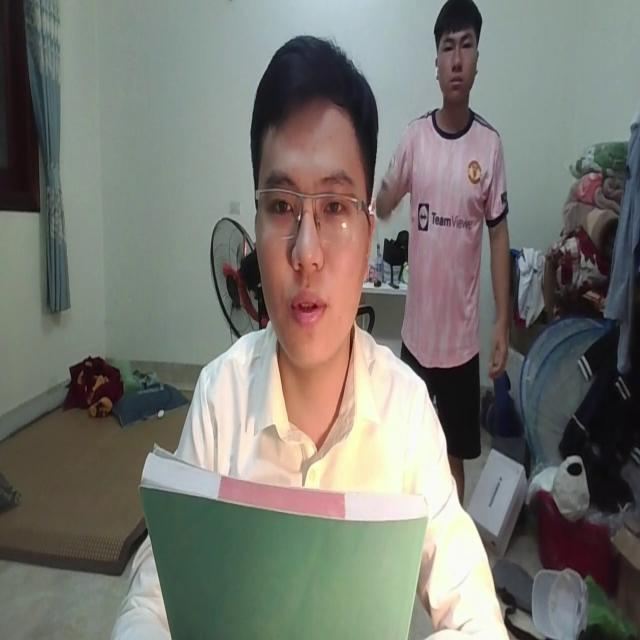book: (138, 426, 429, 640)
extra_person: (373, 4, 509, 468)
student: (118, 37, 500, 640)
